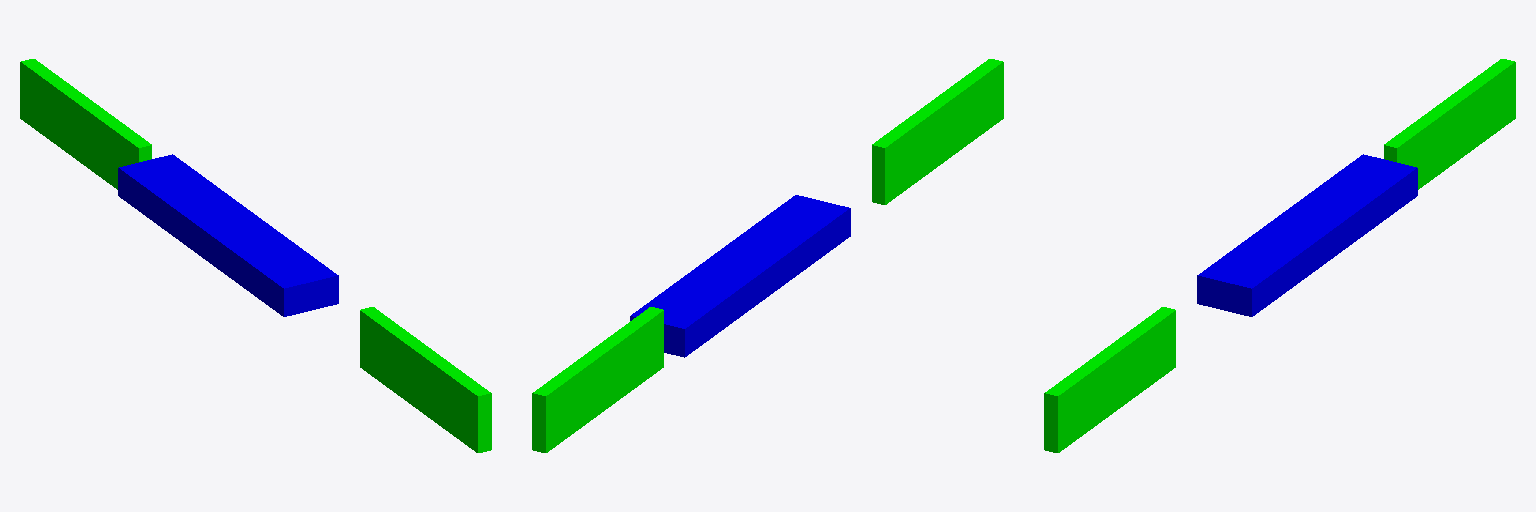
URDF robot description (robot):
<robot name = "robot">
    <link name="root">
        <inertial>
            <origin xyz="0.0 0.0 1.5" rpy="0 0 0"/>
            <mass value="1" />
            <inertia ixx="100" ixy="0" ixz="0" iyy="100" iyz="0" izz="100" />
        </inertial>
        <visual>
            <origin xyz="0.0 0.0 1.5" rpy="0 0 0"/>
            <geometry>
                <box size="0 0 0.0001" />
            </geometry>
            <material name="Green">
                <color rgba="0 1.0 0.0 1.0"/>
            </material>
        </visual>
        <collision>
            <origin xyz="0.0 0.0 1.5" rpy="0 0 0"/>
            <geometry>
                <box size="0 0 0.0001" />
            </geometry>
        </collision>
    </link>
    <joint name="root_000" type="revolute">
       <parent link="root"/>
       <child  link="000"/>
       <origin rpy="0 0 0" xyz="0.0 0.0 1.5" />
     <axis xyz="1 0 0"/>
       <limit effort="0.0" lower="-3.14159" upper="3.14159" velocity="0.0"/>
    </joint>
    <link name="000">
        <inertial>
            <origin xyz="0.0 0.35 0.0" rpy="0 0 0"/>
            <mass value="1" />
            <inertia ixx="100" ixy="0" ixz="0" iyy="100" iyz="0" izz="100" />
        </inertial>
        <visual>
            <origin xyz="0.0 0.35 0.0" rpy="0 0 0"/>
            <geometry>
                <box size="0.4 0.7 0.2" />
            </geometry>
            <material name="Blue">
                <color rgba="0 0.0 1.0 1.0"/>
            </material>
        </visual>
        <collision>
            <origin xyz="0.0 0.35 0.0" rpy="0 0 0"/>
            <geometry>
                <box size="0.4 0.7 0.2" />
            </geometry>
        </collision>
    </link>
    <joint name="000_010" type="revolute">
       <parent link="000"/>
       <child  link="010"/>
       <origin rpy="0 0 0" xyz="0.0 0.7 -0.0" />
     <axis xyz="0 1 0"/>
       <limit effort="0.0" lower="-3.14159" upper="3.14159" velocity="0.0"/>
    </joint>
    <link name="010">
        <inertial>
            <origin xyz="0.0 0.35 -0.0" rpy="0 0 0"/>
            <mass value="1" />
            <inertia ixx="100" ixy="0" ixz="0" iyy="100" iyz="0" izz="100" />
        </inertial>
        <visual>
            <origin xyz="0.0 0.35 -0.0" rpy="0 0 0"/>
            <geometry>
                <box size="0.4 0.7 0.2" />
            </geometry>
            <material name="Blue">
                <color rgba="0 0.0 1.0 1.0"/>
            </material>
        </visual>
        <collision>
            <origin xyz="0.0 0.35 -0.0" rpy="0 0 0"/>
            <geometry>
                <box size="0.4 0.7 0.2" />
            </geometry>
        </collision>
    </link>
    <joint name="010_020" type="revolute">
       <parent link="010"/>
       <child  link="020"/>
       <origin rpy="0 0 0" xyz="0.0 0.7 -0.0" />
     <axis xyz="0 1 0"/>
       <limit effort="0.0" lower="-3.14159" upper="3.14159" velocity="0.0"/>
    </joint>
    <link name="020">
        <inertial>
            <origin xyz="0.0 0.35 -0.0" rpy="0 0 0"/>
            <mass value="1" />
            <inertia ixx="100" ixy="0" ixz="0" iyy="100" iyz="0" izz="100" />
        </inertial>
        <visual>
            <origin xyz="0.0 0.35 -0.0" rpy="0 0 0"/>
            <geometry>
                <box size="0.4 0.7 0.2" />
            </geometry>
            <material name="Blue">
                <color rgba="0 0.0 1.0 1.0"/>
            </material>
        </visual>
        <collision>
            <origin xyz="0.0 0.35 -0.0" rpy="0 0 0"/>
            <geometry>
                <box size="0.4 0.7 0.2" />
            </geometry>
        </collision>
    </link>
    <joint name="020_020-100" type="revolute">
       <parent link="020"/>
       <child  link="020-100"/>
       <origin rpy="0 0 0" xyz="0.0 0.7 -0.0" />
     <axis xyz="0 1 0"/>
       <limit effort="0.0" lower="-3.14159" upper="3.14159" velocity="0.0"/>
    </joint>
    <link name="020-100">
        <inertial>
            <origin xyz="0.0 0.25 -0.0" rpy="0 0 0"/>
            <mass value="1" />
            <inertia ixx="100" ixy="0" ixz="0" iyy="100" iyz="0" izz="100" />
        </inertial>
        <visual>
            <origin xyz="0.0 0.25 -0.0" rpy="0 0 0"/>
            <geometry>
                <box size="0.1 0.5 0.4" />
            </geometry>
            <material name="Green">
                <color rgba="0 1.0 0.0 1.0"/>
            </material>
        </visual>
        <collision>
            <origin xyz="0.0 0.25 -0.0" rpy="0 0 0"/>
            <geometry>
                <box size="0.1 0.5 0.4" />
            </geometry>
        </collision>
    </link>
    <joint name="020-100_020-110" type="revolute">
       <parent link="020-100"/>
       <child  link="020-110"/>
       <origin rpy="0 0 0" xyz="0.0 0.5 -0.0" />
     <axis xyz="0 1 0"/>
       <limit effort="0.0" lower="-3.14159" upper="3.14159" velocity="0.0"/>
    </joint>
    <link name="020-110">
        <inertial>
            <origin xyz="0.0 0.25 -0.0" rpy="0 0 0"/>
            <mass value="1" />
            <inertia ixx="100" ixy="0" ixz="0" iyy="100" iyz="0" izz="100" />
        </inertial>
        <visual>
            <origin xyz="0.0 0.25 -0.0" rpy="0 0 0"/>
            <geometry>
                <box size="0.1 0.5 0.4" />
            </geometry>
            <material name="Green">
                <color rgba="0 1.0 0.0 1.0"/>
            </material>
        </visual>
        <collision>
            <origin xyz="0.0 0.25 -0.0" rpy="0 0 0"/>
            <geometry>
                <box size="0.1 0.5 0.4" />
            </geometry>
        </collision>
    </link>
    <joint name="020-110_020-120" type="revolute">
       <parent link="020-110"/>
       <child  link="020-120"/>
       <origin rpy="0 0 0" xyz="0.0 0.5 -0.0" />
     <axis xyz="0 1 0"/>
       <limit effort="0.0" lower="-3.14159" upper="3.14159" velocity="0.0"/>
    </joint>
    <link name="020-120">
        <inertial>
            <origin xyz="0.0 0.25 -0.0" rpy="0 0 0"/>
            <mass value="1" />
            <inertia ixx="100" ixy="0" ixz="0" iyy="100" iyz="0" izz="100" />
        </inertial>
        <visual>
            <origin xyz="0.0 0.25 -0.0" rpy="0 0 0"/>
            <geometry>
                <box size="0.1 0.5 0.4" />
            </geometry>
            <material name="Green">
                <color rgba="0 1.0 0.0 1.0"/>
            </material>
        </visual>
        <collision>
            <origin xyz="0.0 0.25 -0.0" rpy="0 0 0"/>
            <geometry>
                <box size="0.1 0.5 0.4" />
            </geometry>
        </collision>
    </link>
    <joint name="000_000-101" type="revolute">
       <parent link="000"/>
       <child  link="000-101"/>
       <origin rpy="0 0 0" xyz="0.0 -0.7 -0.0" />
     <axis xyz="0 1 0"/>
       <limit effort="0.0" lower="-3.14159" upper="3.14159" velocity="0.0"/>
    </joint>
    <link name="000-101">
        <inertial>
            <origin xyz="0.0 -0.25 -0.0" rpy="0 0 0"/>
            <mass value="1" />
            <inertia ixx="100" ixy="0" ixz="0" iyy="100" iyz="0" izz="100" />
        </inertial>
        <visual>
            <origin xyz="0.0 -0.25 -0.0" rpy="0 0 0"/>
            <geometry>
                <box size="0.1 0.5 0.4" />
            </geometry>
            <material name="Green">
                <color rgba="0 1.0 0.0 1.0"/>
            </material>
        </visual>
        <collision>
            <origin xyz="0.0 -0.25 -0.0" rpy="0 0 0"/>
            <geometry>
                <box size="0.1 0.5 0.4" />
            </geometry>
        </collision>
    </link>
    <joint name="000-101_000-111" type="revolute">
       <parent link="000-101"/>
       <child  link="000-111"/>
       <origin rpy="0 0 0" xyz="0.0 -0.5 -0.0" />
     <axis xyz="0 1 0"/>
       <limit effort="0.0" lower="-3.14159" upper="3.14159" velocity="0.0"/>
    </joint>
    <link name="000-111">
        <inertial>
            <origin xyz="0.0 -0.25 -0.0" rpy="0 0 0"/>
            <mass value="1" />
            <inertia ixx="100" ixy="0" ixz="0" iyy="100" iyz="0" izz="100" />
        </inertial>
        <visual>
            <origin xyz="0.0 -0.25 -0.0" rpy="0 0 0"/>
            <geometry>
                <box size="0.1 0.5 0.4" />
            </geometry>
            <material name="Green">
                <color rgba="0 1.0 0.0 1.0"/>
            </material>
        </visual>
        <collision>
            <origin xyz="0.0 -0.25 -0.0" rpy="0 0 0"/>
            <geometry>
                <box size="0.1 0.5 0.4" />
            </geometry>
        </collision>
    </link>
    <joint name="000-111_000-121" type="revolute">
       <parent link="000-111"/>
       <child  link="000-121"/>
       <origin rpy="0 0 0" xyz="0.0 -0.5 -0.0" />
     <axis xyz="0 1 0"/>
       <limit effort="0.0" lower="-3.14159" upper="3.14159" velocity="0.0"/>
    </joint>
    <link name="000-121">
        <inertial>
            <origin xyz="0.0 -0.25 -0.0" rpy="0 0 0"/>
            <mass value="1" />
            <inertia ixx="100" ixy="0" ixz="0" iyy="100" iyz="0" izz="100" />
        </inertial>
        <visual>
            <origin xyz="0.0 -0.25 -0.0" rpy="0 0 0"/>
            <geometry>
                <box size="0.1 0.5 0.4" />
            </geometry>
            <material name="Green">
                <color rgba="0 1.0 0.0 1.0"/>
            </material>
        </visual>
        <collision>
            <origin xyz="0.0 -0.25 -0.0" rpy="0 0 0"/>
            <geometry>
                <box size="0.1 0.5 0.4" />
            </geometry>
        </collision>
    </link>
</robot>

--- Facts derived from the render (not from the file) ---
The picture shows the robot from 3 angles, left to right: view 1: azimuth 30°, elevation 25°; view 2: azimuth 150°, elevation 25°; view 3: azimuth 330°, elevation 25°; orthographic projection.
Robot: robot — 10 links, 9 joints (9 revolute); root link root; default pose: all joints at 0.
Visible links, largest first — view 1: 000, 010, 020, 000-121, 020-120, 020-110, 000-101, 000-111, 020-100; view 2: 020, 000, 010, 020-120, 000-101, 000-121, 020-100, 020-110, 000-111; view 3: 000, 010, 020, 000-121, 020-120, 020-110, 000-101, 000-111, 020-100.
Boxes of the visible links, bbox=[...] form: 000: bbox=[229, 235, 338, 316]; 010: bbox=[173, 195, 282, 276]; 020: bbox=[118, 154, 227, 235]; 000-121: bbox=[438, 364, 491, 452]; 020-120: bbox=[20, 59, 72, 146]; 020-110: bbox=[60, 87, 111, 175]; 000-101: bbox=[360, 307, 411, 395]; 000-111: bbox=[399, 335, 450, 423]; 020-100: bbox=[99, 116, 151, 189]; 020: bbox=[630, 275, 739, 357]; 000: bbox=[741, 195, 850, 276]; 010: bbox=[686, 235, 794, 316]; 020-120: bbox=[532, 364, 585, 452]; 000-101: bbox=[872, 116, 924, 204]; 000-121: bbox=[951, 59, 1003, 146]; 020-100: bbox=[612, 307, 663, 395]; 020-110: bbox=[573, 335, 624, 423]; 000-111: bbox=[912, 87, 963, 175]; 000: bbox=[1197, 235, 1306, 316]; 010: bbox=[1253, 195, 1362, 276]; 020: bbox=[1308, 154, 1417, 235]; 000-121: bbox=[1044, 364, 1097, 452]; 020-120: bbox=[1463, 59, 1515, 146]; 020-110: bbox=[1424, 87, 1475, 175]; 000-101: bbox=[1124, 307, 1175, 395]; 000-111: bbox=[1085, 335, 1136, 423]; 020-100: bbox=[1384, 116, 1436, 189].
Bounding box of the posed robot: 0.4 × 5.8 × 0.4 m (x, y, z).
Geometry: primitives only (box / cylinder / sphere), no mesh files.
